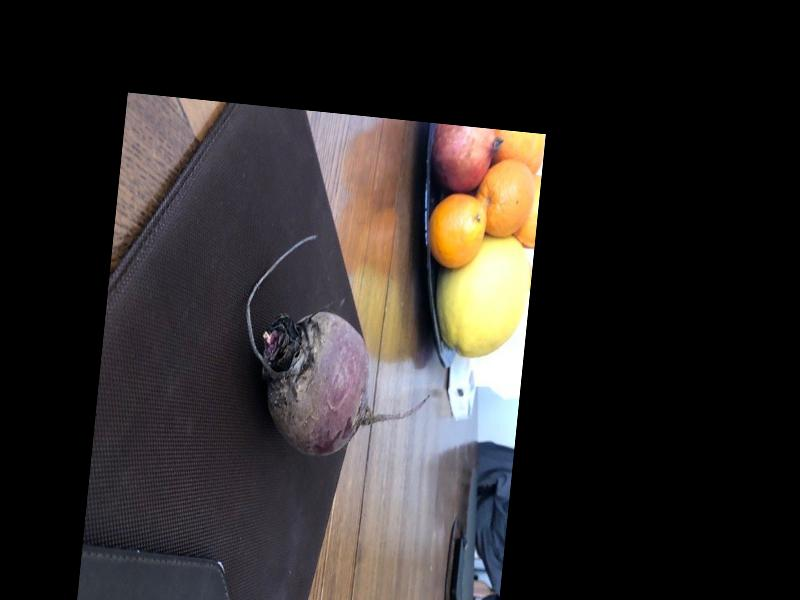Beet: (232, 228, 445, 467)
